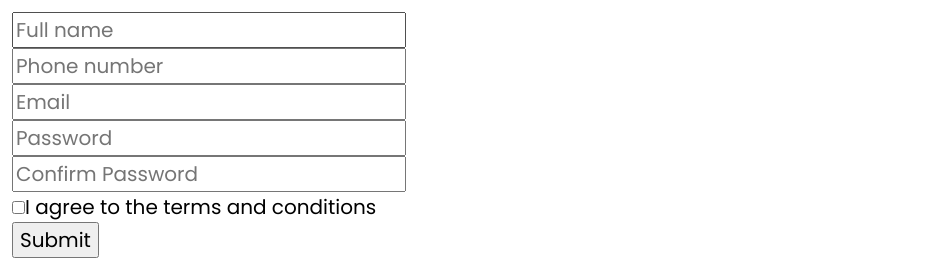
Test: Matches DOM Snapshot › Does not allow invalid email format
The image size is (951, 275).
Type "test" into the field with placeholder "Email".
click(209, 102); type("test")  # box [12, 84, 406, 120]
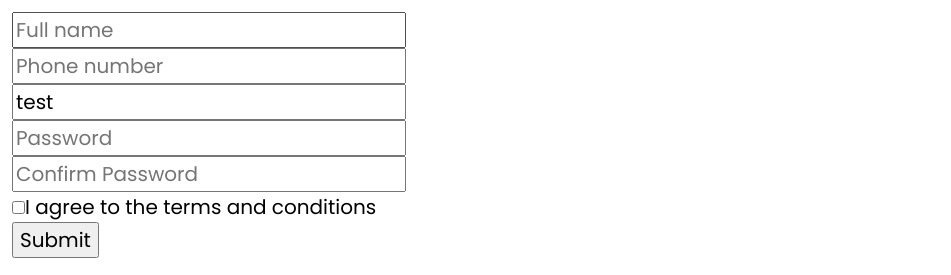
Click the button "Submit".
click(55, 240)  # box [12, 222, 99, 258]
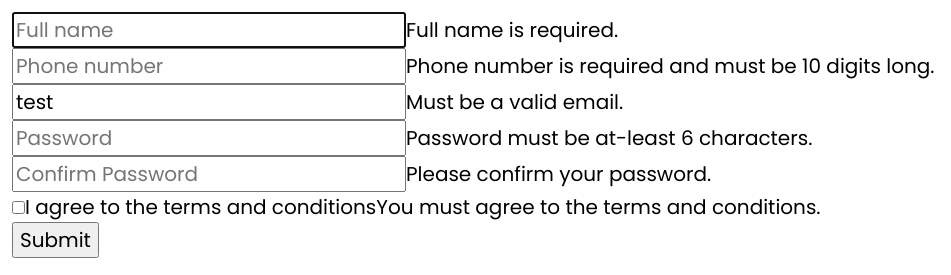
Now the text "Must be a valid email." is shown, box [406, 88, 623, 116]
